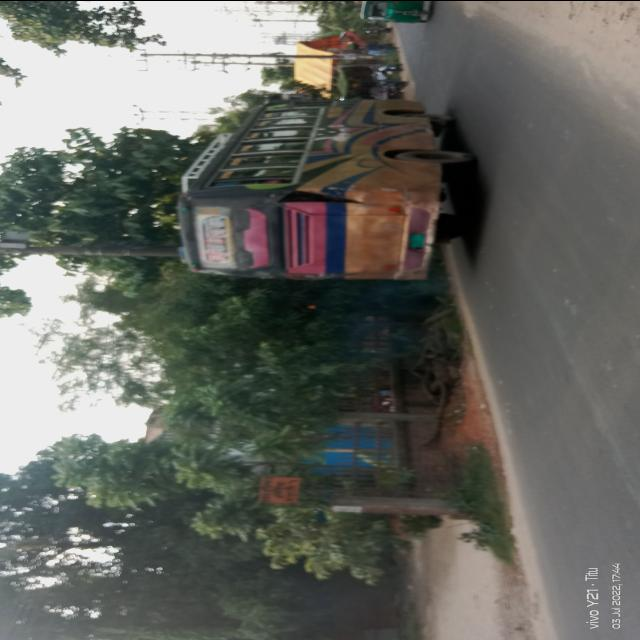bus: (160, 94, 483, 279)
